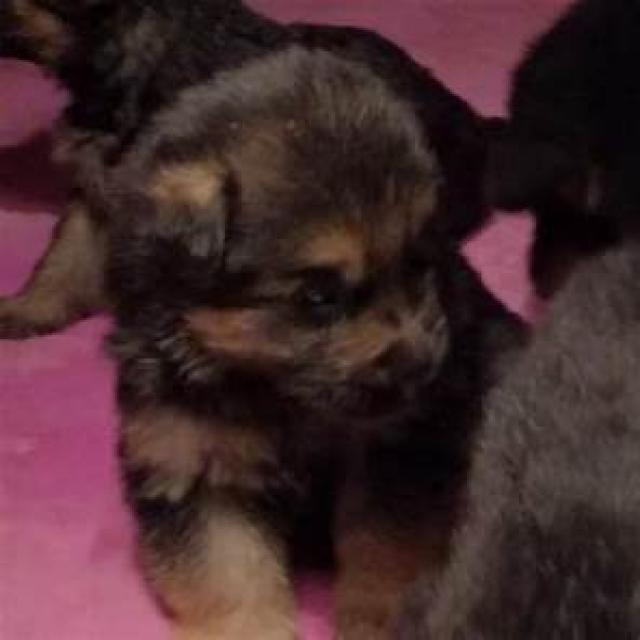dog: (99, 26, 530, 640)
